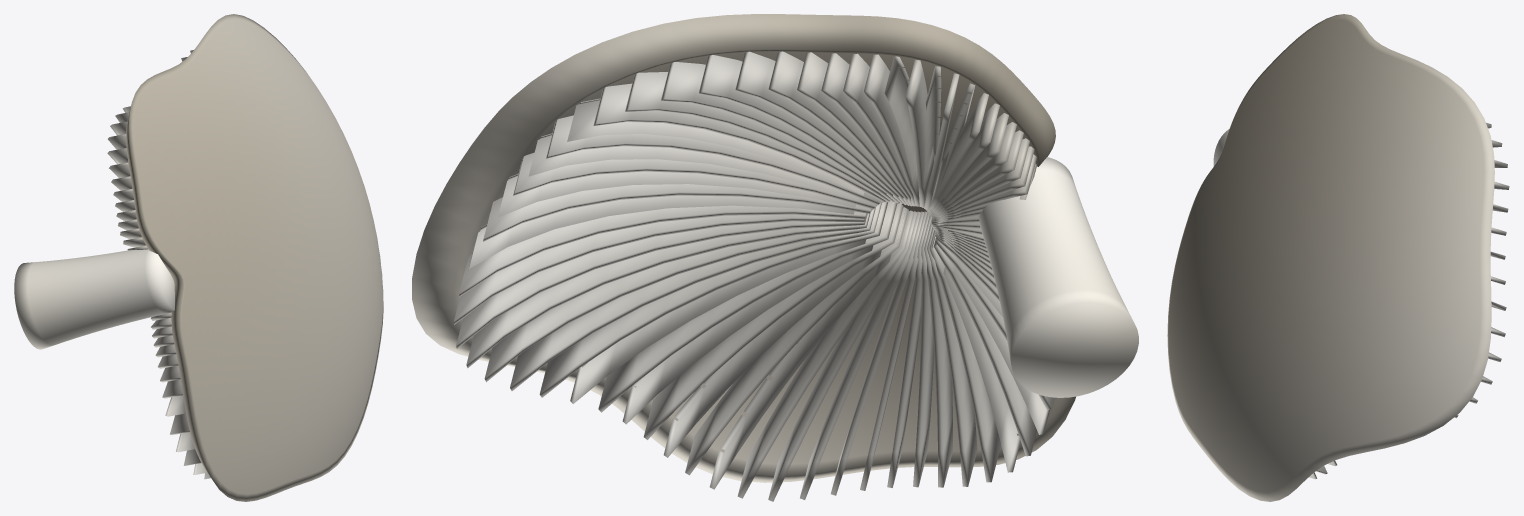
The model's file is pleurotus-ostreatus.glb.
3 views of the same model, side by side, from view 1: azimuth 30°, elevation 25°; view 2: azimuth 150°, elevation 25°; view 3: azimuth 270°, elevation 25° (orthographic). The views are drawn at different scales.
Parts seen in each view (by area): view 1: pileus_cap, stipe_stem, lamellae_gills; view 2: lamellae_gills, pileus_cap, stipe_stem; view 3: pileus_cap, lamellae_gills.
Boxes of the visible parts, <box> form: pileus_cap: <box>126,14,383,501</box>; stipe_stem: <box>14,249,174,349</box>; lamellae_gills: <box>107,50,210,479</box>; lamellae_gills: <box>454,51,1054,501</box>; pileus_cap: <box>412,14,1075,482</box>; stipe_stem: <box>978,157,1138,397</box>; pileus_cap: <box>1167,14,1494,501</box>; lamellae_gills: <box>1309,122,1509,479</box>.
Bounding box in the file's own units: 1.38 × 1.23 × 0.9339.
